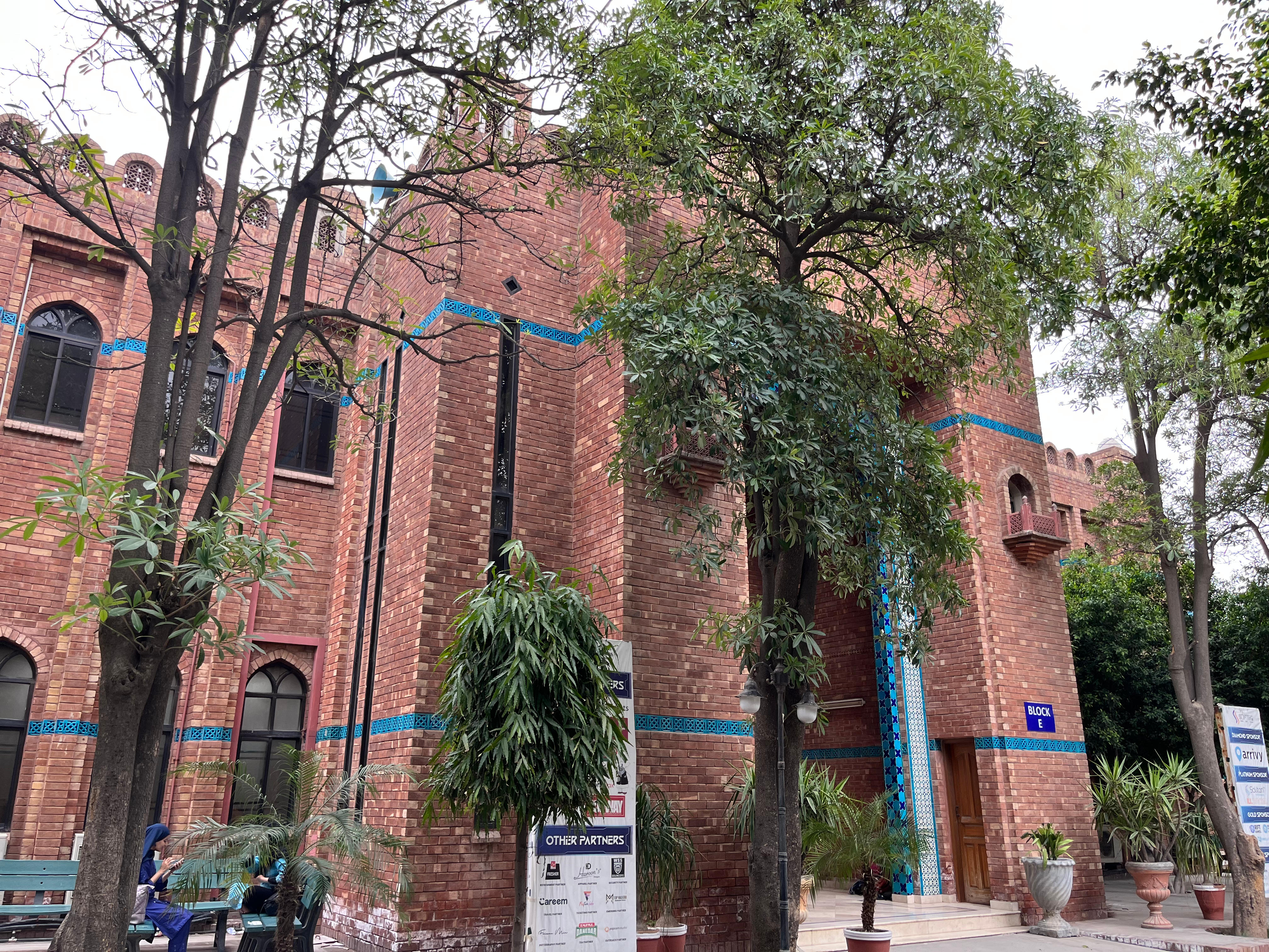Block E: (4, 43, 1168, 952)
